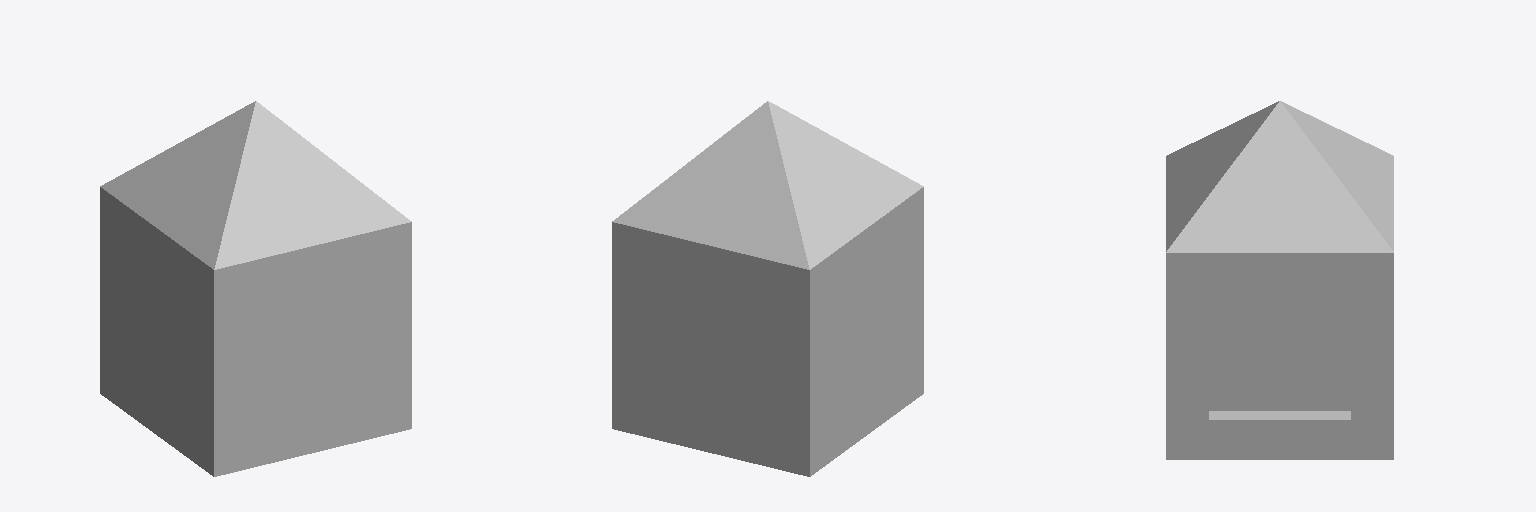
File: machine.obj
3 views of the same model, side by side, from view 1: azimuth 30°, elevation 25°; view 2: azimuth 150°, elevation 25°; view 3: azimuth 270°, elevation 25° (orthographic).
Parts seen in each view (by area): view 1: Cube; view 2: Cube; view 3: Cube.
Part boxes in pixels (x1,y1,x2,y2): Cube: (100, 101, 411, 476); Cube: (612, 101, 923, 476); Cube: (1166, 101, 1393, 459).
Size of the model in its own units: 2 by 3 by 2.